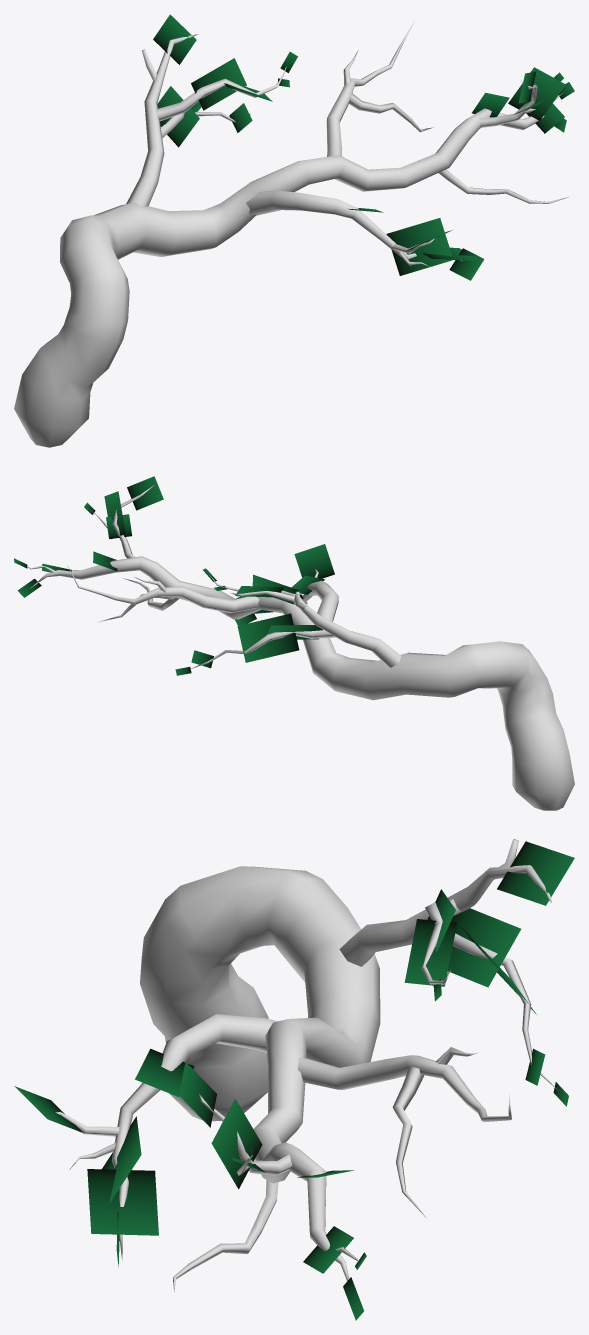
File: SM_TreeWindsweptB04.fbx
The picture shows the model from 3 angles, top to bottom: view 1: azimuth 30°, elevation 25°; view 2: azimuth 150°, elevation 25°; view 3: azimuth 270°, elevation 25°; orthographic projection. The views are drawn at different scales.
Parts seen in each view (by area): view 1: SM_TreeWindsweptB04_LOD0; view 2: SM_TreeWindsweptB04_LOD0; view 3: SM_TreeWindsweptB04_LOD0.
Part boxes in pixels (bbox=[...]): SM_TreeWindsweptB04_LOD0: bbox=[14, 14, 574, 447]; SM_TreeWindsweptB04_LOD0: bbox=[14, 476, 574, 810]; SM_TreeWindsweptB04_LOD0: bbox=[14, 839, 574, 1320].
Bounding box in the file's own units: 1795 × 810 × 952.
